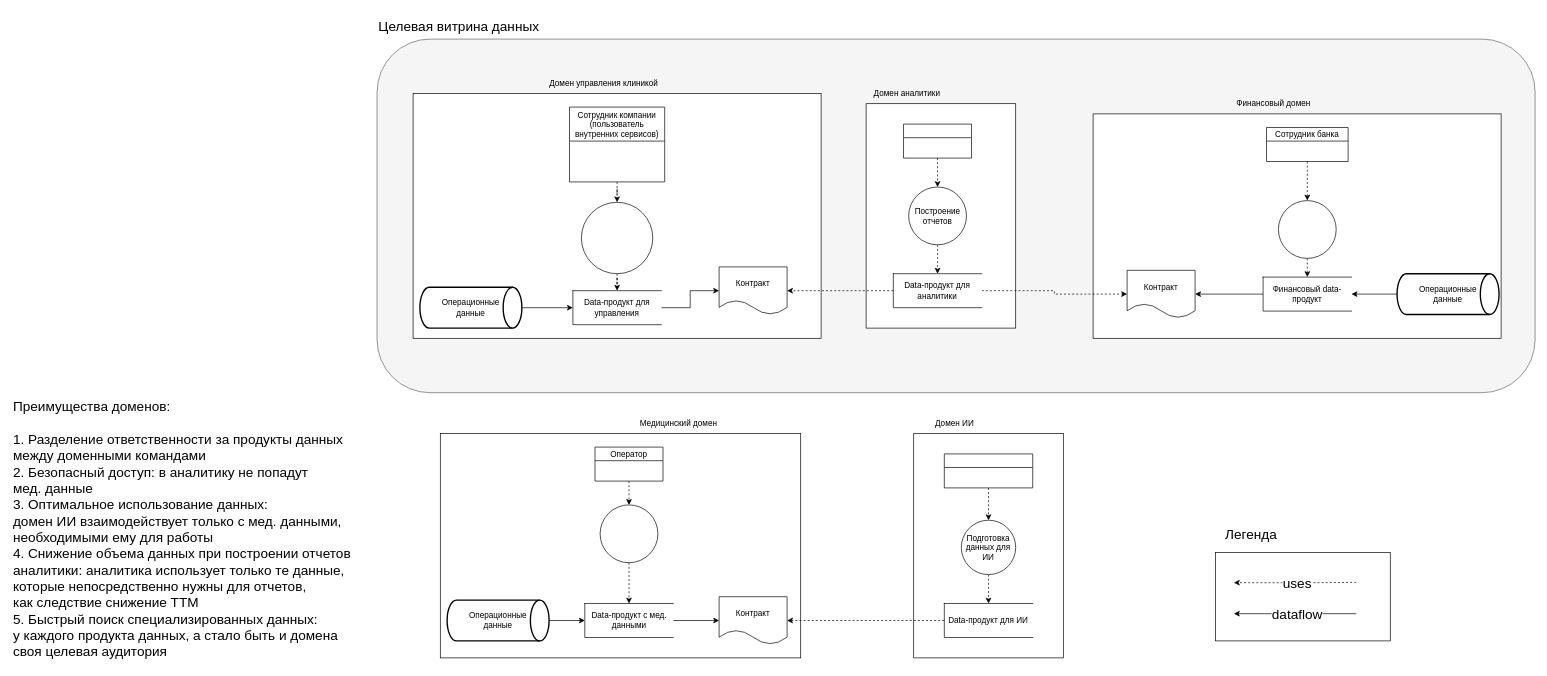
This 1547x676 diagram has some shape labels left out. The shapes that lost their labels are listed below. From the top down, each one's centre as x and y in pixels, then its label:
(x=937, y=140): Аналитик
(x=617, y=238): Работа с внутренними (в т.ч.. финансовыми) данными
(x=1307, y=229): Работа с финансовыми данными
(x=988, y=470): Специалист по ИИ
(x=628, y=533): Работа с медицинскими данными
